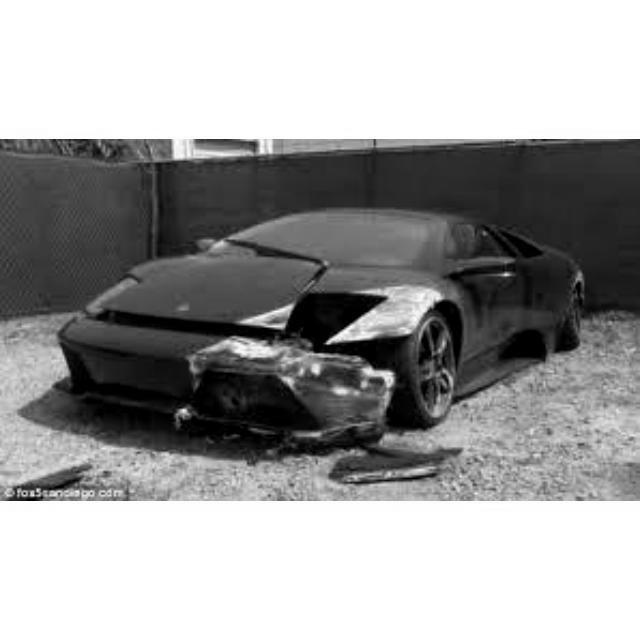front-bumper-dent: (218, 341, 383, 431)
